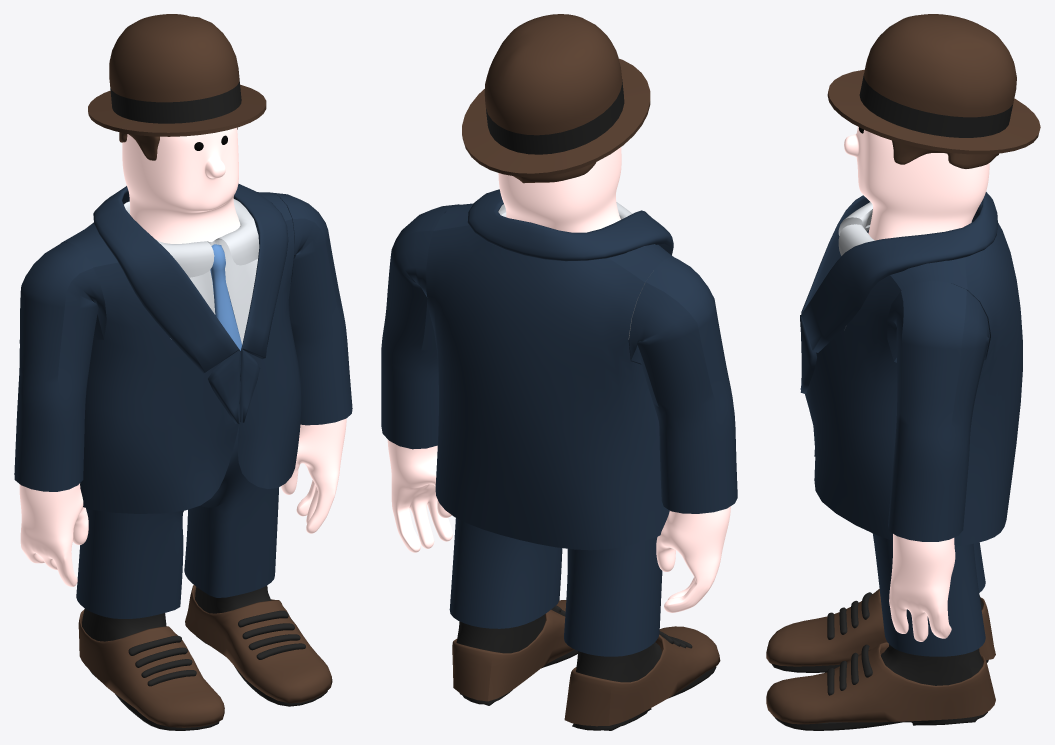
The model's file is player.fbx.
3 renders of one model, left to right at view 1: azimuth 30°, elevation 25°; view 2: azimuth 150°, elevation 25°; view 3: azimuth 270°, elevation 25°, orthographic. The views are drawn at different scales.
Parts seen in each view (by area): view 1: terno, calca, terno_3, pele, Capsule, gravata_1, terno_1_3, Capsule_1, cabelo; view 2: terno, calca, terno_3, Capsule, pele, terno_1_3, Capsule_1; view 3: terno, calca, terno_3, Capsule, pele, terno_1_3, cabelo, gravata_1, Capsule_1.
Boxes of the visible parts, x1,y1,x2,y2 form: terno: (60,183,301,513); calca: (76,423,332,730); terno_3: (14,192,352,491); pele: (19,127,346,586); Capsule: (88,14,265,132); gravata_1: (123,199,259,350); terno_1_3: (94,185,288,420); Capsule_1: (88,101,266,136); cabelo: (119,127,237,160); terno: (426,189,673,550); calca: (449,353,720,730); terno_3: (381,204,737,513); Capsule: (462,14,650,173); pele: (387,147,730,612); terno_1_3: (468,192,673,344); Capsule_1: (462,101,650,177); terno: (800,192,1022,546); calca: (766,332,995,730); terno_3: (887,203,989,541); Capsule: (828,14,1040,150); pele: (844,126,989,641); terno_1_3: (802,193,996,392); cabelo: (892,140,998,168); gravata_1: (838,202,971,255); Capsule_1: (827,92,1038,154).
Size of the model in its own units: 71.77 by 133 by 49.82.
